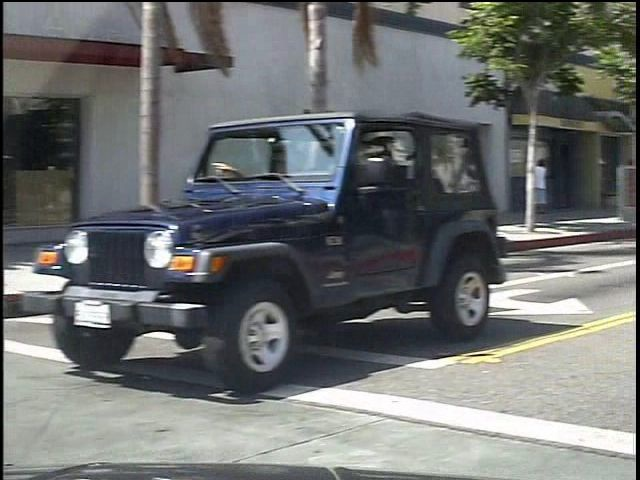person: (548, 150, 572, 233)
